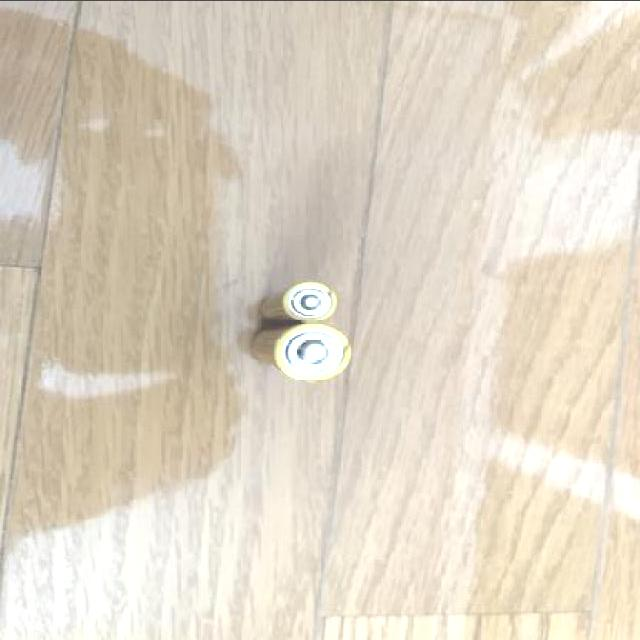AA: (245, 322, 358, 382)
AAA: (258, 278, 338, 324)
